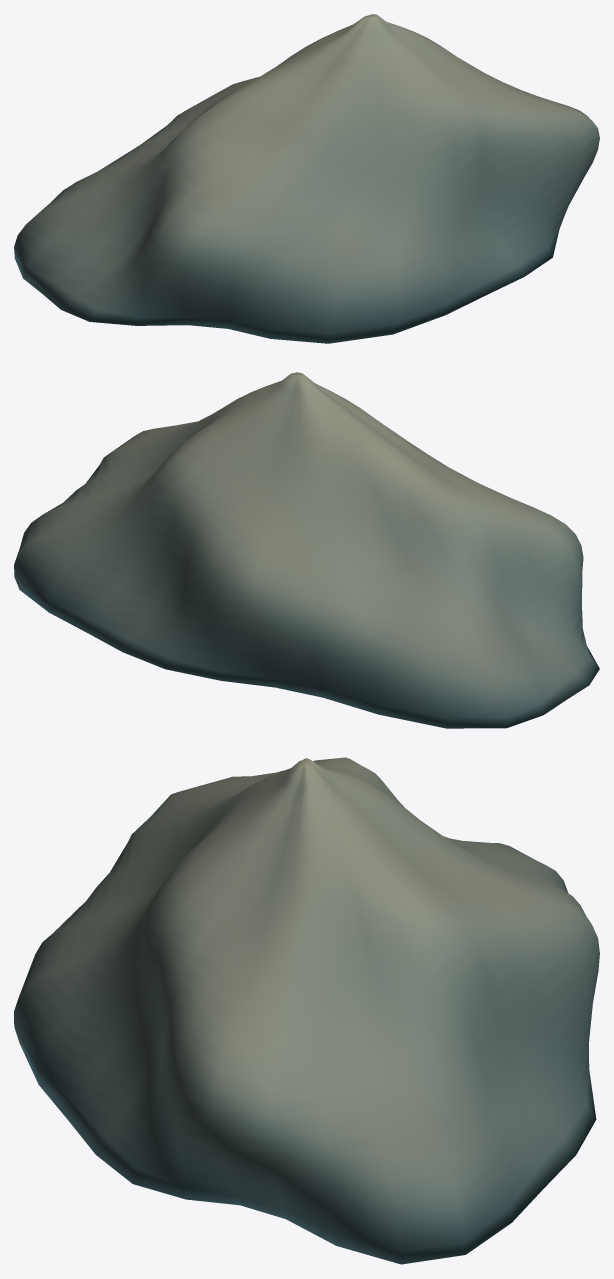
File: reef-outcrop.glb
3 renders of one model, top to bottom at view 1: azimuth 30°, elevation 25°; view 2: azimuth 150°, elevation 25°; view 3: azimuth 270°, elevation 25°, orthographic. The views are drawn at different scales.
Parts seen in each view (by area): view 1: reef-outcrop.001; view 2: reef-outcrop.001; view 3: reef-outcrop.001.
Part boxes in pixels (<box>): reef-outcrop.001: <box>14,14,599,343</box>; reef-outcrop.001: <box>14,372,599,728</box>; reef-outcrop.001: <box>14,757,599,1264</box>.
Bounding box in the file's own units: 6.61 × 2.65 × 4.23.
